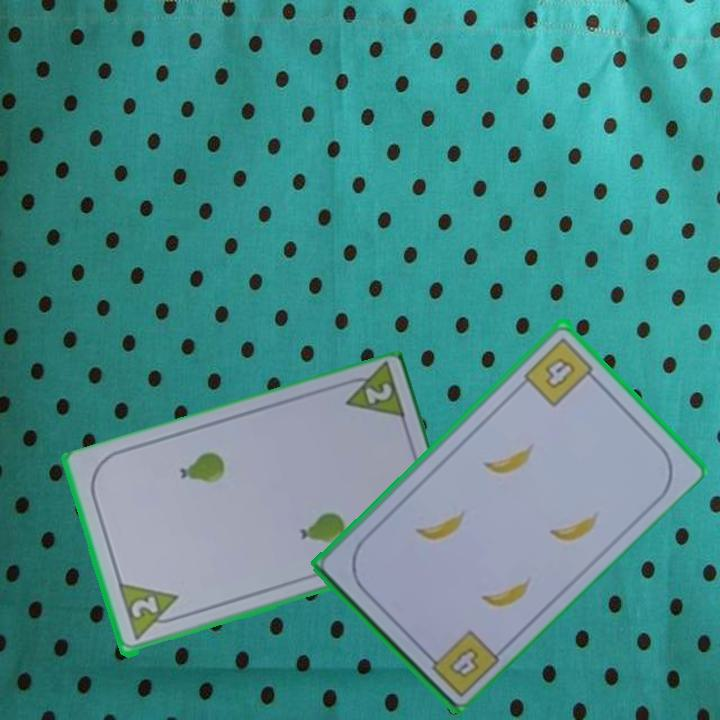2p: (127, 593, 161, 622), (361, 380, 395, 408)
4b: (520, 333, 601, 409), (445, 643, 482, 681)
